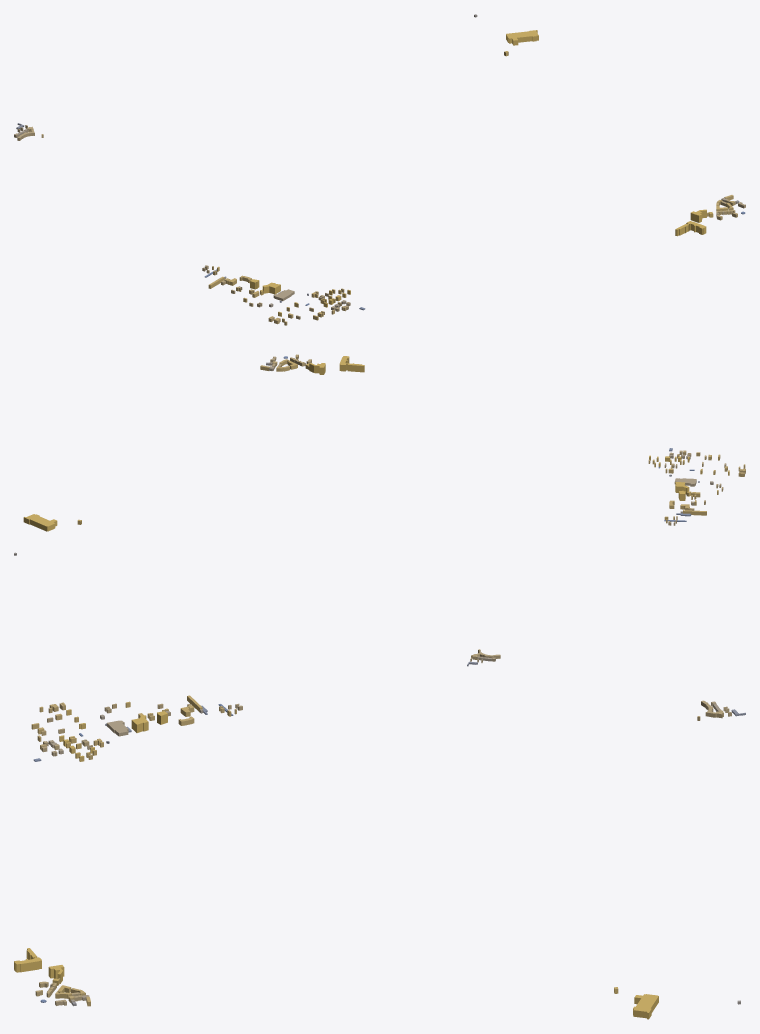
3 renders of one model, top to bottom at view 1: azimuth 30°, elevation 25°; view 2: azimuth 150°, elevation 25°; view 3: azimuth 270°, elevation 25°, orthographic. The views are drawn at different scales.
Visible parts, largest first — view 1: lod2; view 2: lod2; view 3: lod2.
Part boxes in pixels (left/top/right/bottom): lod2: left=14, top=14, right=745, bottom=325; lod2: left=14, top=354, right=745, bottom=666; lod2: left=14, top=695, right=745, bottom=1019.
Size of the model in its own units: 2614 by 42.75 by 2532.
